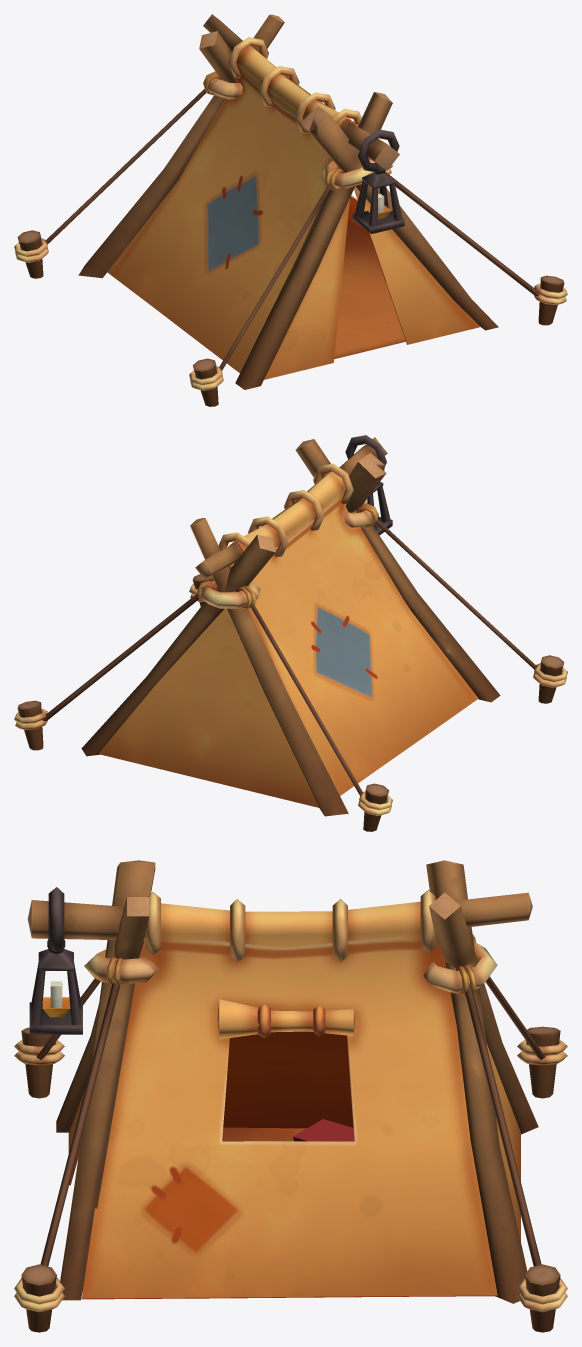
Rendered from SM_Tent_LOD2.fbx.
3 views of the same model, one above another, from view 1: azimuth 30°, elevation 25°; view 2: azimuth 150°, elevation 25°; view 3: azimuth 270°, elevation 25° (orthographic). The views are drawn at different scales.
Parts seen in each view (by area): view 1: SM_Tent_LOD2; view 2: SM_Tent_LOD2; view 3: SM_Tent_LOD2.
Boxes of the visible parts, left/top/right/bottom form: SM_Tent_LOD2: left=14, top=14, right=567, bottom=406; SM_Tent_LOD2: left=14, top=435, right=567, bottom=831; SM_Tent_LOD2: left=14, top=860, right=567, bottom=1332.
Size of the model in its own units: 656 by 583 by 397.
1 material, 1 textured.
